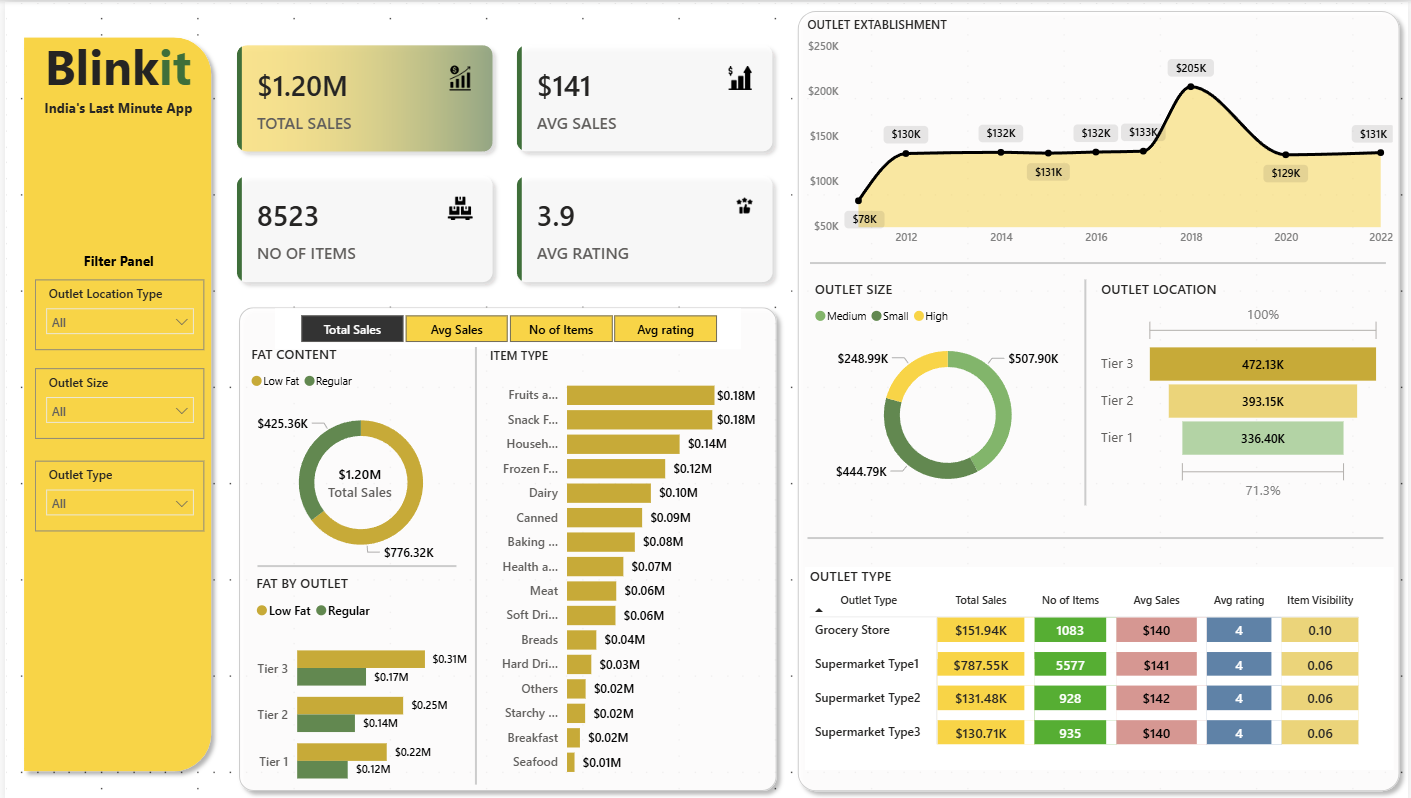

Layout of this report page (visuals, bound fields, positions):
{"tool":"powerbi","page":{"name":"Page 1","canvas":[1400,800],"ordinal":0},"visuals":[{"type":"shape","box":[10.2,25.6,204.8,750.1],"z":0},{"type":"textbox","box":[21.8,25.6,183,79.4],"z":1000},{"type":"textbox","box":[28.2,90.9,169,29.4],"z":2000},{"type":"cardVisual","fields":{"Data":["BlinkIT Grocery Data.Total Sales","BlinkIT Grocery Data.Avg Sales","BlinkIT Grocery Data.No of Items","BlinkIT Grocery Data.Avg rating"]},"box":[215,25.6,569.6,270.1],"z":3000},{"type":"shape","box":[224,295.7,554.2,500.5],"z":4000},{"type":"donutChart","title":"FAT CONTENT","fields":{"Y":["BlinkIT Grocery Data.Total Sales"],"Category":["BlinkIT Grocery Data.Item Fat Content"]},"box":[240.6,341.8,229.1,230.4],"z":5000},{"type":"slicer","fields":{"Values":["Metrics.Metrics"]},"box":[268.8,305.9,464.6,41],"z":6000},{"type":"cardVisual","fields":{"Data":["BlinkIT Grocery Data.Total Sales"]},"box":[300.8,435.2,107.5,88.3],"z":7000},{"type":"clusteredBarChart","title":"FAT BY OUTLET","fields":{"Y":["BlinkIT Grocery Data.Total Sales"],"Category":["BlinkIT Grocery Data.Outlet Location Type"],"Series":["BlinkIT Grocery Data.Item Fat Content"]},"box":[245.8,569.6,220.2,230.4],"z":8000},{"type":"shape","box":[252.2,550.4,198.4,25.6],"z":9000},{"type":"shape","box":[457,344.3,24.3,436.5],"z":10000},{"type":"barChart","title":"ITEM TYPE","fields":{"Y":["BlinkIT Grocery Data.Total Sales"],"Category":["BlinkIT Grocery Data.Item Type"]},"box":[478.7,344.3,275.2,439],"z":11000},{"type":"shape","box":[781.8,0,618.2,796.2],"z":12000},{"type":"lineChart","title":"OUTLET EXTABLISHMENT","fields":{"Y":["BlinkIT Grocery Data.Total Sales"],"Category":["BlinkIT Grocery Data.Outlet Establishment Year"]},"box":[794.9,14.1,593.9,238.1],"z":13000},{"type":"shape","box":[802.6,244.5,574.7,32],"z":14000},{"type":"donutChart","title":"OUTLET SIZE","fields":{"Y":["BlinkIT Grocery Data.Total Sales"],"Category":["BlinkIT Grocery Data.Outlet Size"]},"box":[802.6,276.5,275.2,225.3],"z":15000},{"type":"funnel","title":"OUTLET LOCATION","fields":{"Y":["Sum(BlinkIT Grocery Data.Sales)"],"Category":["BlinkIT Grocery Data.Outlet Location Type"]},"box":[1088,276.5,289.3,225.3],"z":16000},{"type":"shape","box":[1065,276.5,25.6,225.3],"z":17000},{"type":"shape","box":[800,518.4,574.7,32],"z":18000},{"type":"pivotTable","title":"OUTLET TYPE","fields":{"Values":["BlinkIT Grocery Data.Total Sales","BlinkIT Grocery Data.No of Items","BlinkIT Grocery Data.Avg Sales","BlinkIT Grocery Data.Avg rating","Avg(BlinkIT Grocery Data.Item Visibility)"],"Rows":["BlinkIT Grocery Data.Outlet Type"]},"box":[797.4,563.2,587.5,202.2],"z":19000},{"type":"slicer","fields":{"Values":["BlinkIT Grocery Data.Outlet Location Type"]},"box":[29.4,276.5,169,70.4],"z":20000},{"type":"slicer","fields":{"Values":["BlinkIT Grocery Data.Outlet Size"]},"box":[29.4,364.8,169,70.4],"z":21000},{"type":"slicer","fields":{"Values":["BlinkIT Grocery Data.Outlet Type"]},"box":[29.4,457,169,70.4],"z":22000},{"type":"textbox","box":[61.4,244.5,105,32],"z":23000}]}

Visuals, with their boxes in screenshot pixels (x1, y1, x2, y2), scaled from the page's 1400x800 canvas onto the 1411x798 screenshot:
shape: [10,26,217,774]
textbox: [22,26,206,105]
textbox: [28,91,199,120]
cardVisual - BlinkIT Grocery Data.Total Sales x BlinkIT Grocery Data.Avg Sales: [217,26,791,295]
shape: [226,295,784,794]
"FAT CONTENT" donutChart: [242,341,473,571]
slicer - Metrics.Metrics: [271,305,739,346]
cardVisual - BlinkIT Grocery Data.Total Sales: [303,434,412,522]
"FAT BY OUTLET" clusteredBarChart: [248,568,470,797]
shape: [254,549,454,575]
shape: [461,343,485,779]
"ITEM TYPE" barChart: [482,343,760,781]
shape: [788,0,1410,794]
"OUTLET EXTABLISHMENT" lineChart: [801,14,1400,252]
shape: [809,244,1388,276]
"OUTLET SIZE" donutChart: [809,276,1086,501]
"OUTLET LOCATION" funnel: [1097,276,1388,501]
shape: [1073,276,1099,501]
shape: [806,517,1386,549]
"OUTLET TYPE" pivotTable: [804,562,1396,763]
slicer - BlinkIT Grocery Data.Outlet Location Type: [30,276,200,346]
slicer - BlinkIT Grocery Data.Outlet Size: [30,364,200,434]
slicer - BlinkIT Grocery Data.Outlet Type: [30,456,200,526]
textbox: [62,244,168,276]
